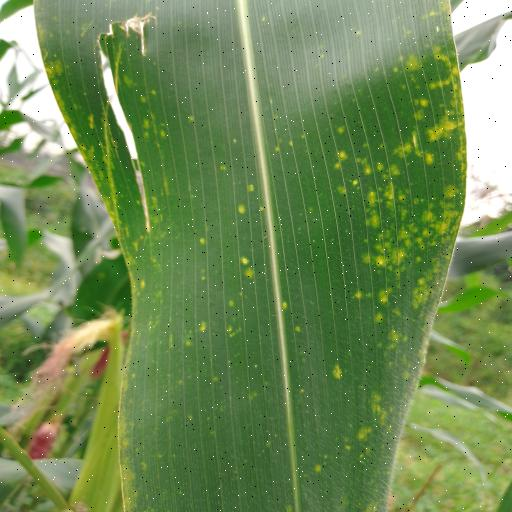Corn_Brown_Spots: (32, 0, 476, 512)
